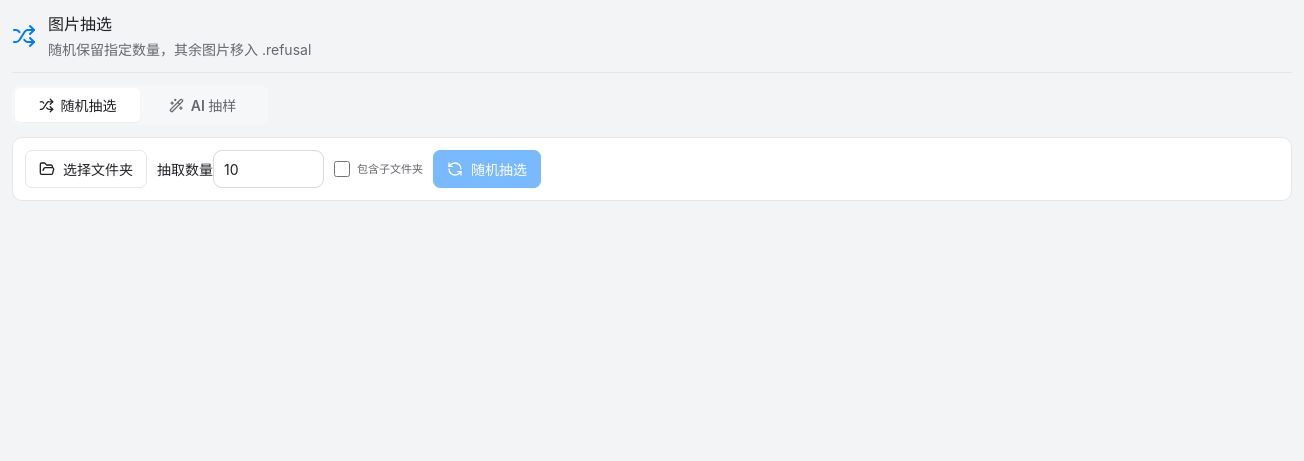
it: SampleView thumbnails › loads and displays thumbnails for both sample columns
This screenshot has width=1304, height=461.
Click the button "选择文件夹": (86, 169) [25,150,147,188]
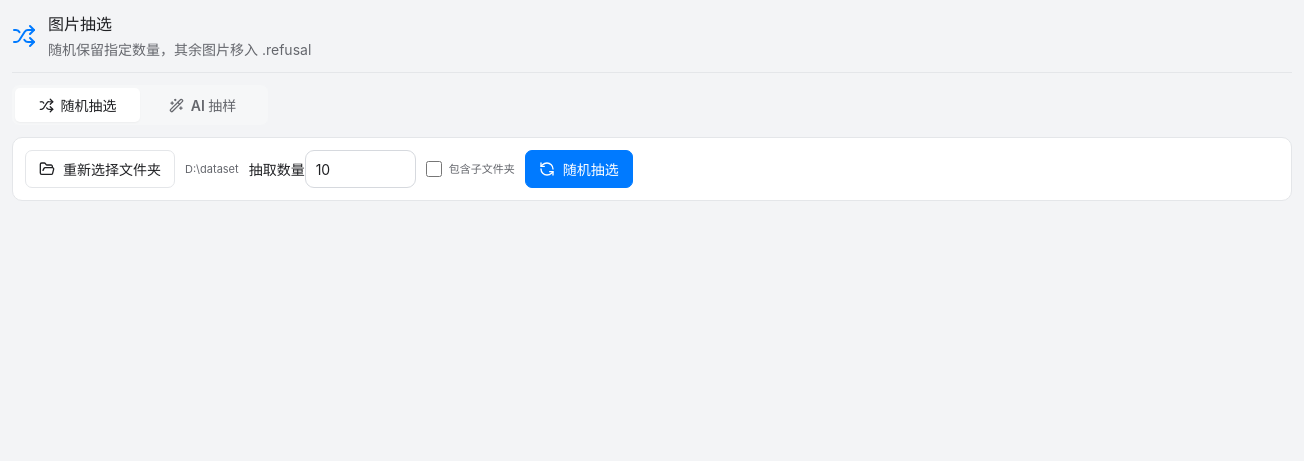
Expected: the button "随机抽选" next to "包含子文件夹" is enabled
Click the button "随机抽选" next to "包含子文件夹": (579, 169) [525,150,633,188]
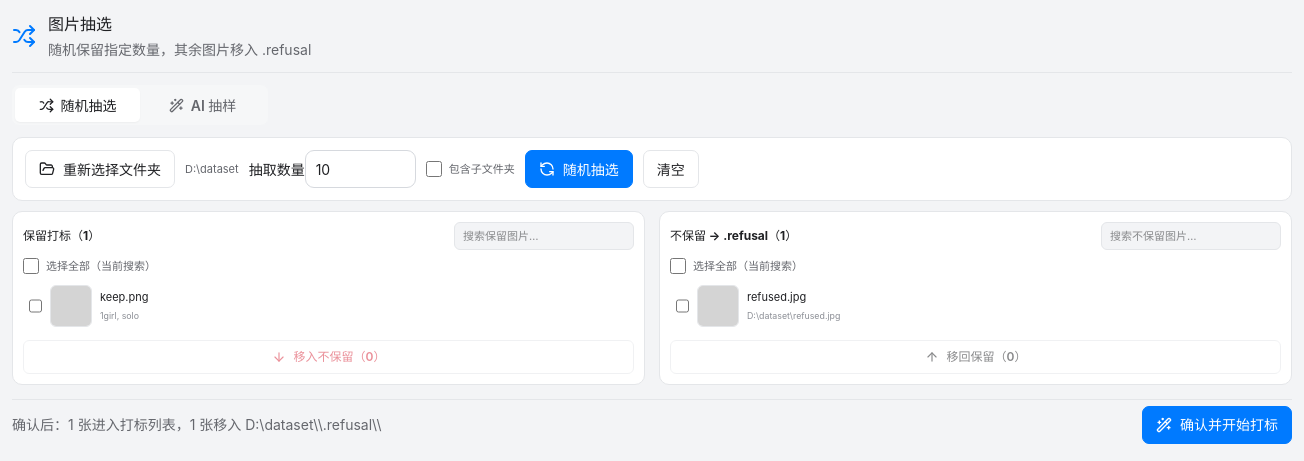
Expected: the text "keep.png" is shown, [100,290,148,304]
Expected: the text "refused.jpg" is shown, [747,290,806,304]
